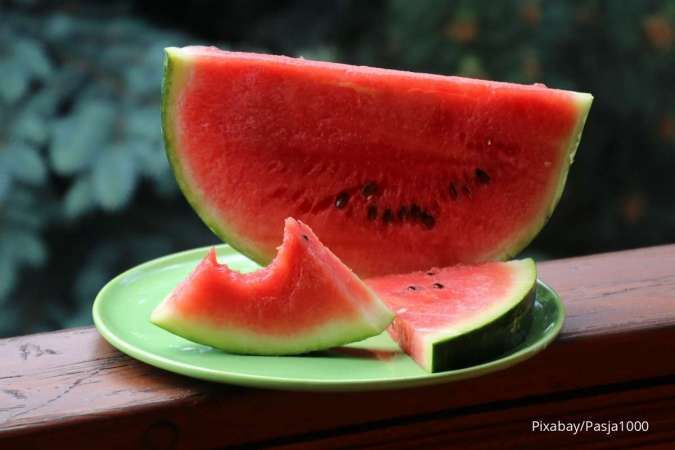Semangka: (376, 254, 561, 375)
